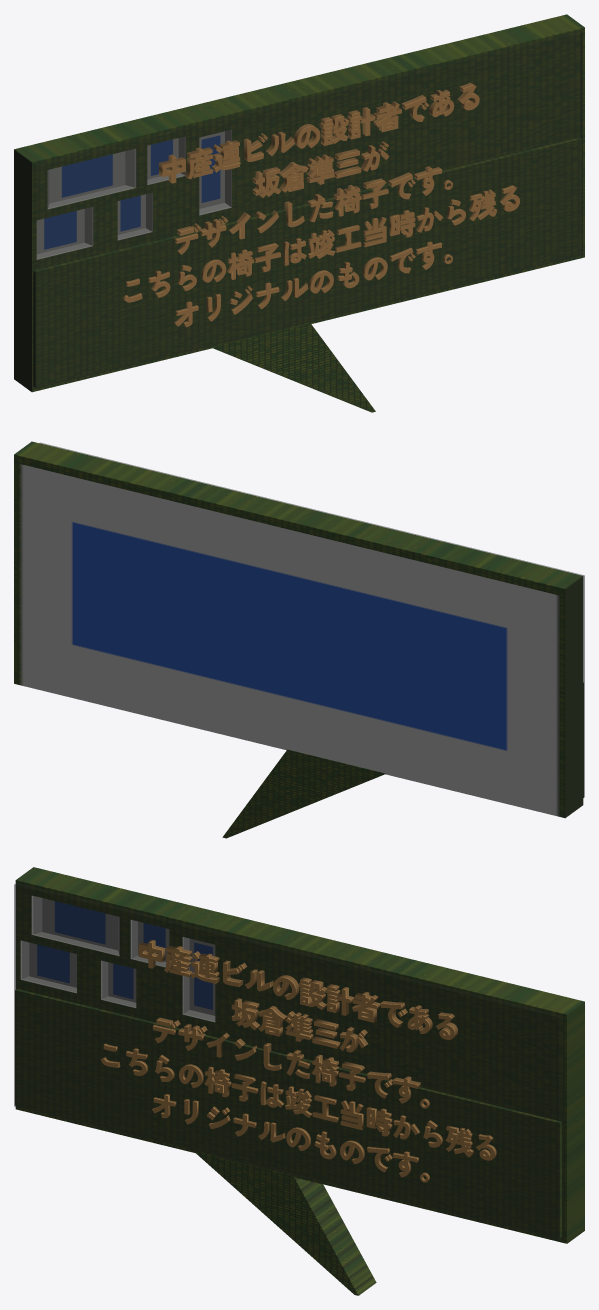
The model's file is c-fukidasi-isu.glb.
3 renders of one model, top to bottom at view 1: azimuth 30°, elevation 25°; view 2: azimuth 150°, elevation 25°; view 3: azimuth 330°, elevation 25°, orthographic.
Parts seen in each view (by area): view 1: 立方体.003, 立方体, 立方体.002, テキスト, 立方体.001; view 2: 立方体, 立方体.001, 立方体.003; view 3: 立方体.003, 立方体, 立方体.002, テキスト, 立方体.001.
Part boxes in pixels (<box>): 立方体.003: <box>33,31,582,388</box>; 立方体: <box>14,14,584,392</box>; 立方体.002: <box>33,137,581,387</box>; テキスト: <box>123,82,519,327</box>; 立方体.001: <box>211,323,375,412</box>; 立方体: <box>14,441,583,818</box>; 立方体.001: <box>222,749,385,838</box>; 立方体.003: <box>39,442,584,797</box>; 立方体.003: <box>14,883,561,1239</box>; 立方体: <box>15,867,584,1243</box>; 立方体.002: <box>15,989,561,1238</box>; テキスト: <box>100,939,496,1182</box>; 立方体.001: <box>195,1152,376,1295</box>.
Size of the model in its own units: 11.12 by 6.4 by 0.7575.
Materials: 5 (3 with a texture image).
